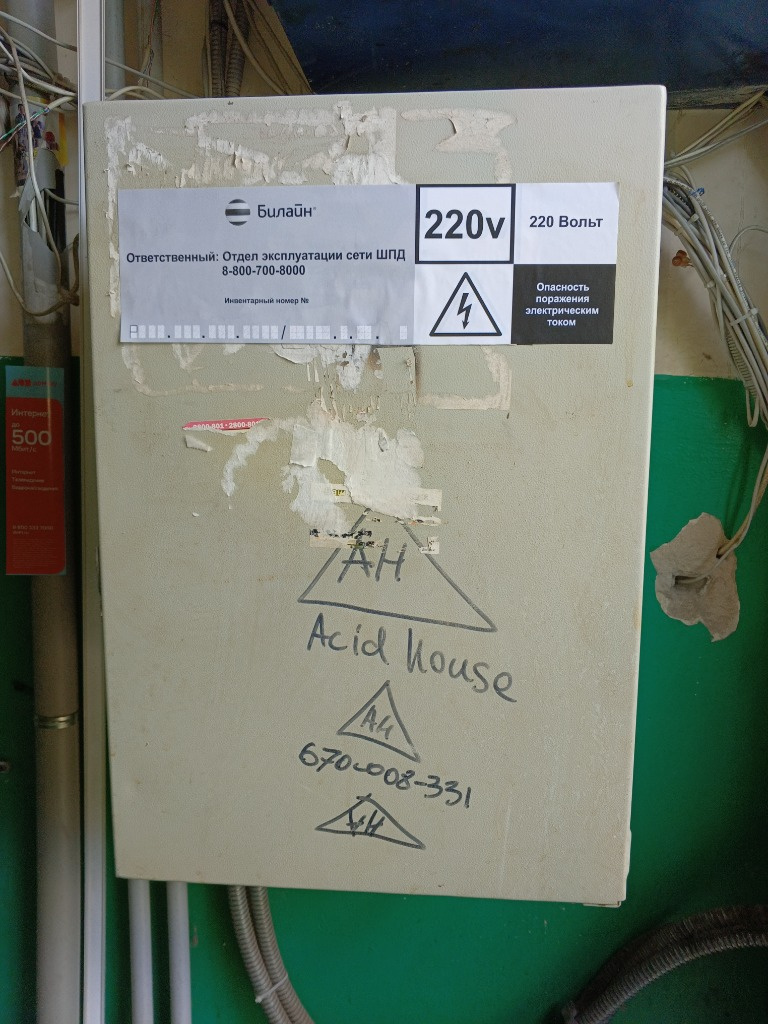sv-5: (72, 78, 673, 912)
